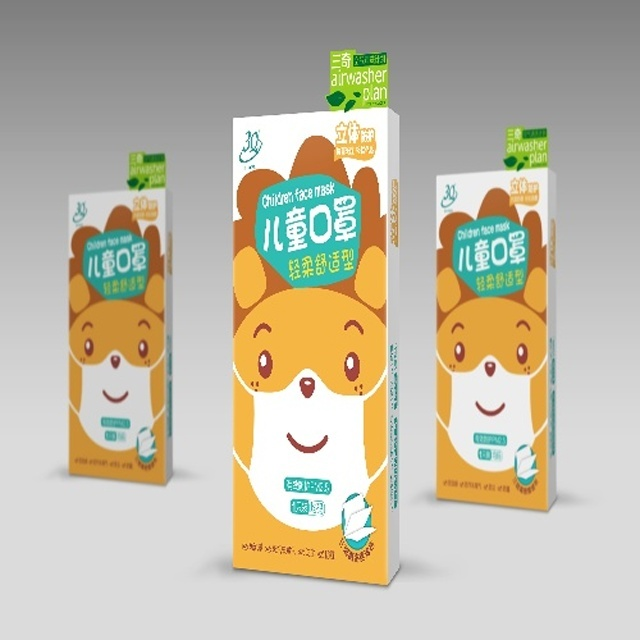mask: (231, 365, 387, 532), (437, 352, 546, 473), (68, 349, 164, 451)
